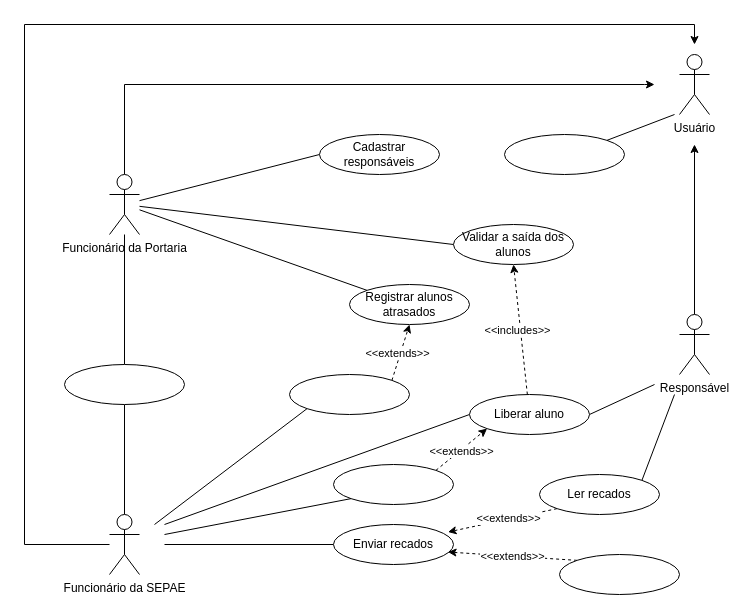
Image size: 746x613. Some labels were removed from this diagram. The shapes that lost their labels are listed below. From the top down, each one's centre as x and y in pixels, then its label:
At (564,154): "Efetuar login".
At (124,384): "Cadastrar-se".
At (349,394): "Visualizar histórico de atrasos".
At (393,484): "Visualizar históricos de liberações".
At (619,574): "Editar recados".
